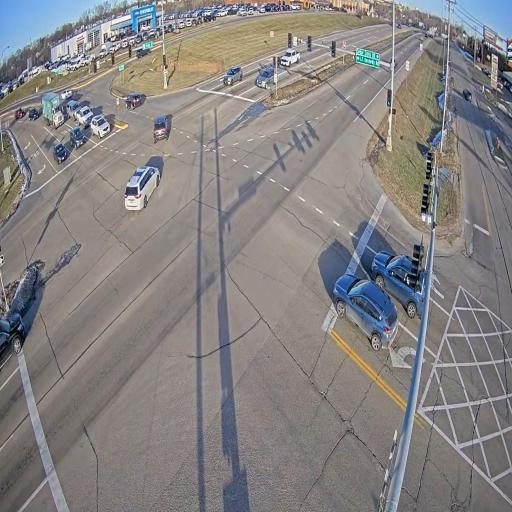pickup: (281, 49, 300, 66)
sedan: (53, 142, 67, 164), (61, 89, 73, 100)
suv: (332, 273, 397, 350), (370, 251, 425, 318), (0, 312, 26, 370), (91, 115, 110, 138), (223, 66, 243, 85), (154, 116, 168, 143), (70, 127, 85, 149), (126, 93, 141, 110), (67, 100, 80, 118), (136, 48, 149, 58), (462, 88, 472, 101), (29, 108, 39, 120), (15, 108, 25, 119)
truck: (42, 92, 64, 128)
van: (124, 167, 161, 210), (256, 67, 275, 89)
